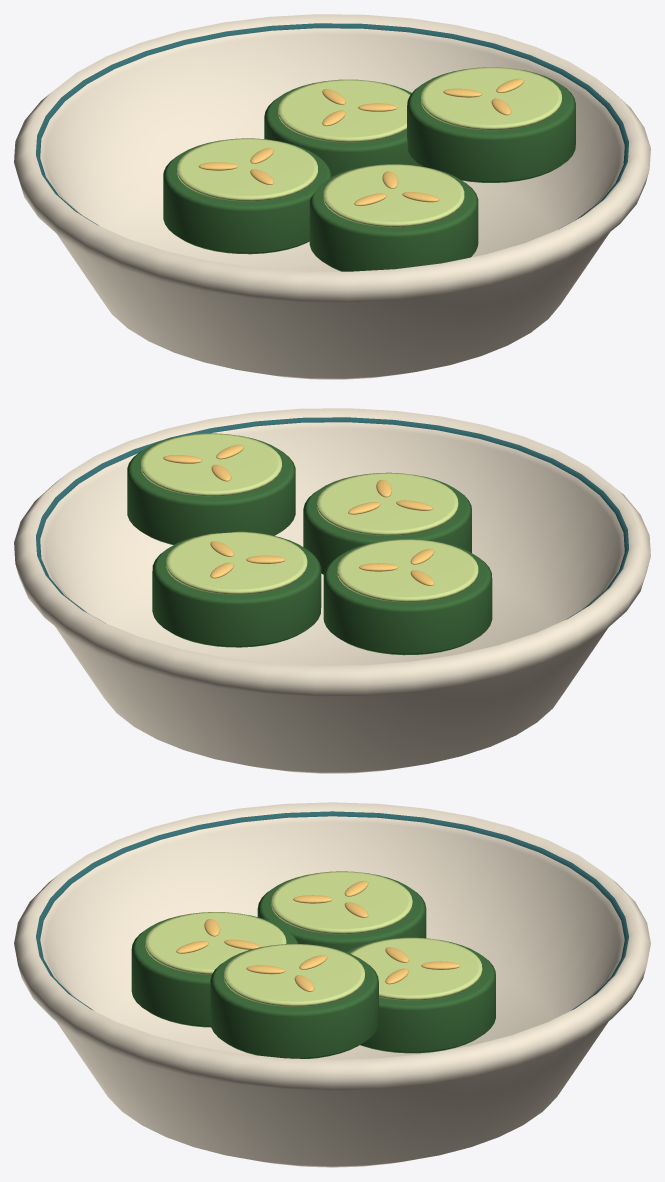
File: dish-cucumber.obj
3 renders of one model, top to bottom at view 1: azimuth 30°, elevation 25°; view 2: azimuth 150°, elevation 25°; view 3: azimuth 270°, elevation 25°, orthographic.
Parts seen in each view (by area): view 1: dish-cucumber_ivory, dish-cucumber_cucumber, dish-cucumber_cucumberFlesh, dish-cucumber_teal, dish-cucumber_seed; view 2: dish-cucumber_ivory, dish-cucumber_cucumber, dish-cucumber_cucumberFlesh, dish-cucumber_teal, dish-cucumber_seed; view 3: dish-cucumber_ivory, dish-cucumber_cucumber, dish-cucumber_cucumberFlesh, dish-cucumber_teal, dish-cucumber_seed.
Boxes of the visible parts, x1,y1,x2,y2 form: dish-cucumber_ivory: (14,14,650,379); dish-cucumber_cucumber: (163,68,575,271); dish-cucumber_cucumberFlesh: (177,67,561,227); dish-cucumber_teal: (36,23,628,229); dish-cucumber_seed: (198,78,524,205); dish-cucumber_ivory: (14,408,650,773); dish-cucumber_cucumber: (127,435,492,655); dish-cucumber_cucumberFlesh: (141,433,478,602); dish-cucumber_teal: (36,417,628,623); dish-cucumber_seed: (163,444,434,585); dish-cucumber_ivory: (14,802,650,1167); dish-cucumber_cucumber: (131,873,495,1058); dish-cucumber_cucumberFlesh: (145,871,482,1006); dish-cucumber_teal: (36,811,628,1009); dish-cucumber_seed: (176,881,460,991).
Bounding box in the file's own units: 0.324 × 0.1049 × 0.324.
